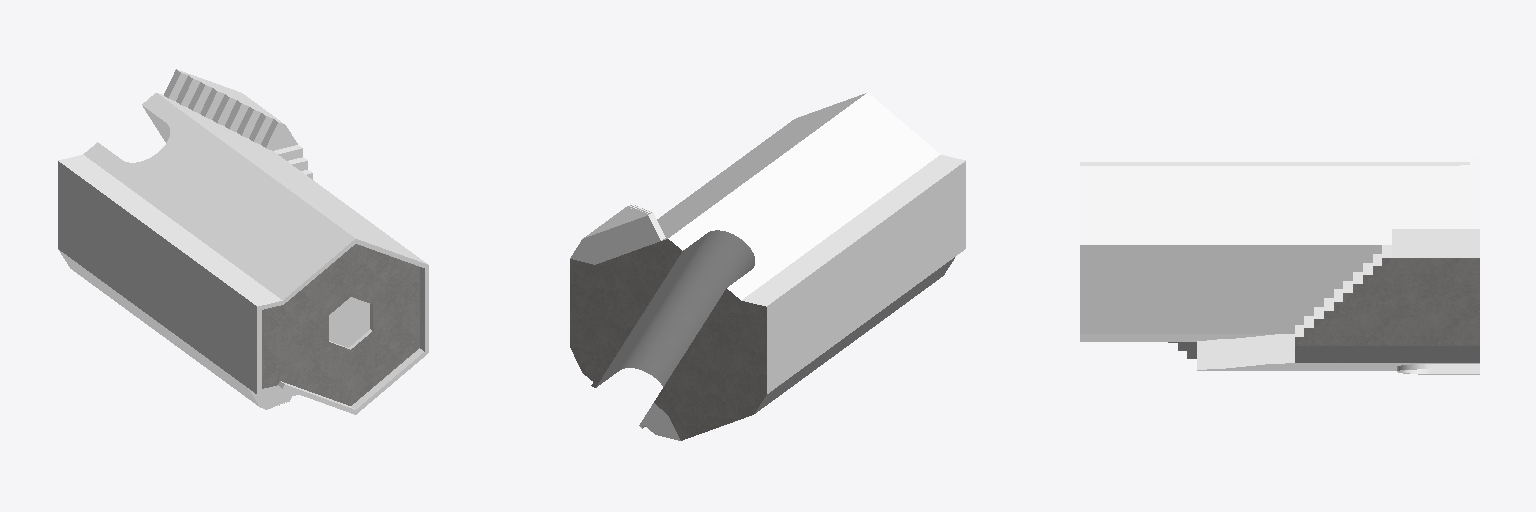
3 views of the same model, side by side, from view 1: azimuth 30°, elevation 25°; view 2: azimuth 150°, elevation 25°; view 3: azimuth 270°, elevation 25° (orthographic).
Visible parts, largest first — view 1: submesh, submesh_1; view 2: submesh, submesh_1; view 3: submesh, submesh_1.
Part boxes in pixels (bbox=[...]): submesh: bbox=[58, 69, 428, 414]; submesh_1: bbox=[262, 244, 419, 405]; submesh: bbox=[570, 93, 965, 440]; submesh_1: bbox=[570, 239, 766, 440]; submesh: bbox=[1080, 157, 1479, 374]; submesh_1: bbox=[1295, 258, 1479, 345].
Size of the model in its own units: 2.33 by 2.47 by 4.1.
Materials: 2 (1 with a texture image).